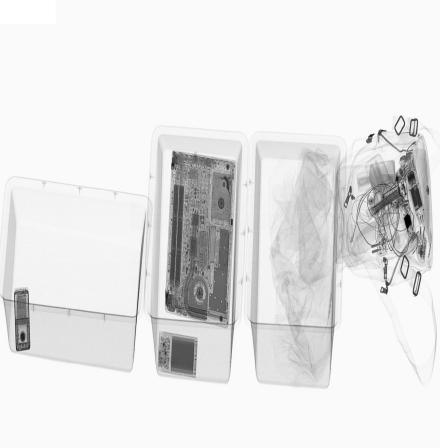Powerbank: (158, 328, 198, 381)
